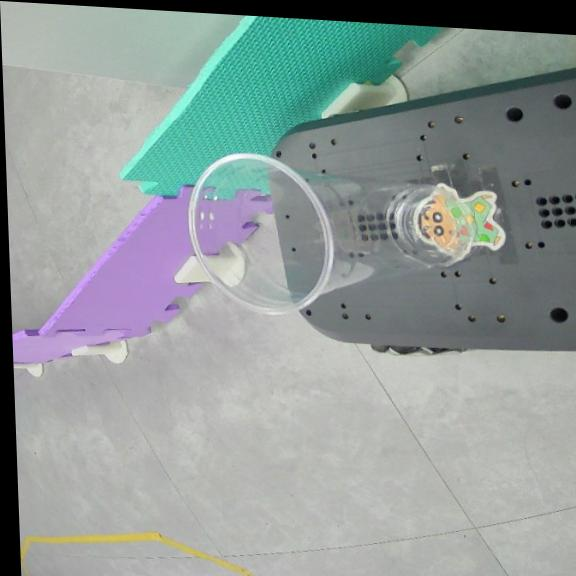Plastik: (190, 152, 468, 313)
